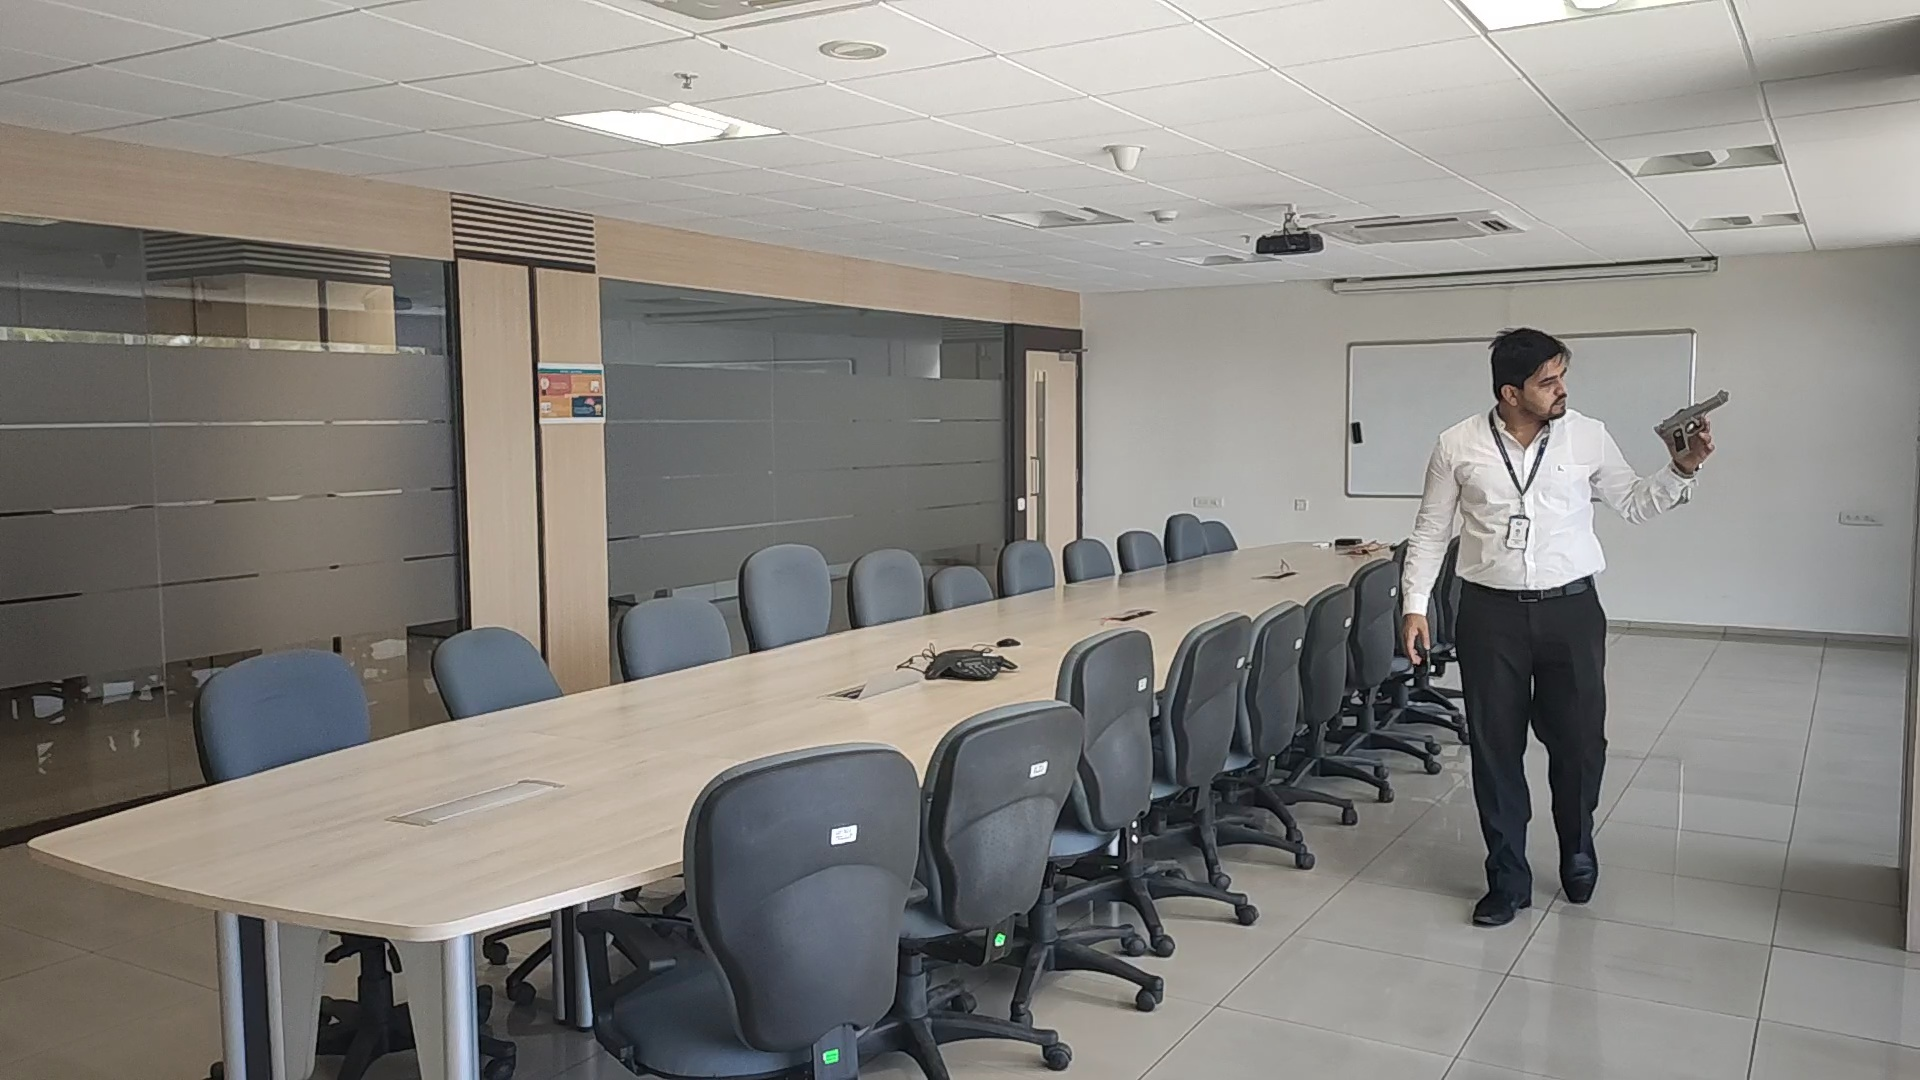gun: (1659, 389, 1731, 436)
